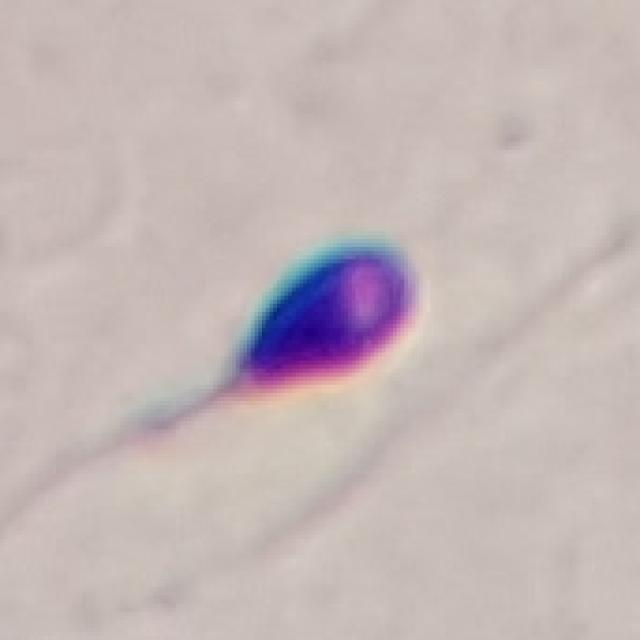normal sperm: (88, 220, 442, 472)
